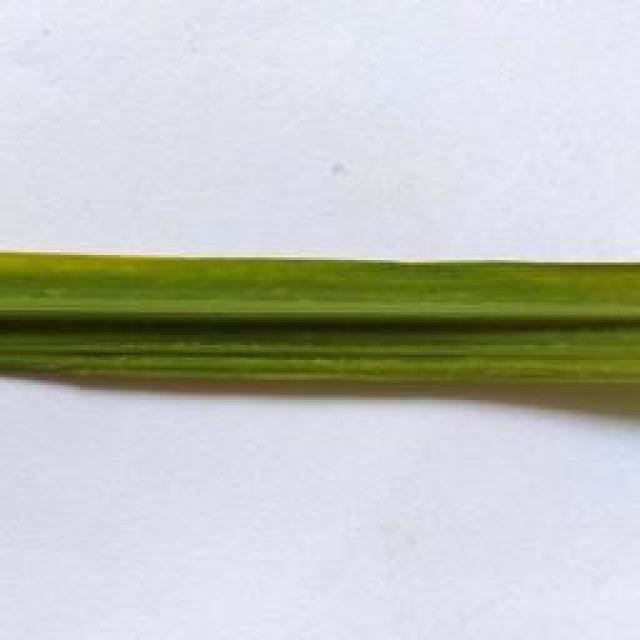Healthy-Plant: (0, 275, 640, 369)
